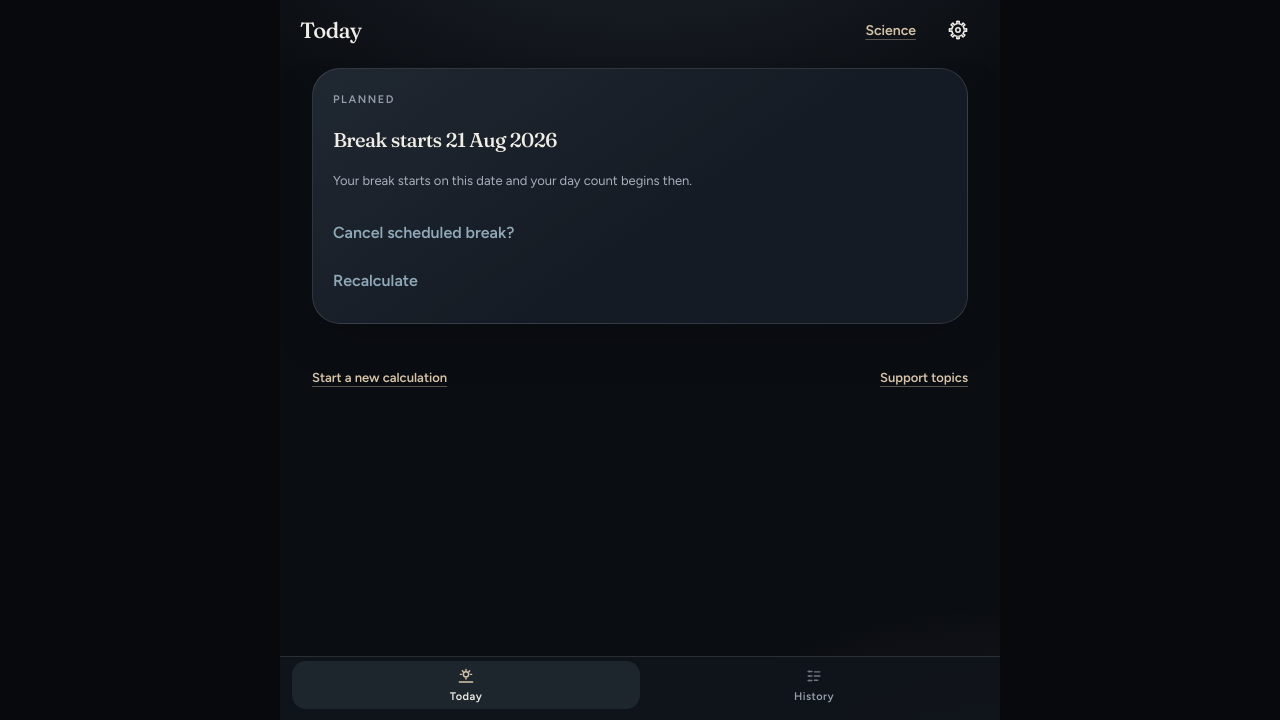
Scenario: chosen-duration scheduling edge cases › shows the running-plan notice instead of starting while a plan is scheduled
The image size is (1280, 720).
Click the button with test id "today-new-plan" showing "Start a new calculation": point(380, 378) x1=312 y1=356 x2=447 y2=400
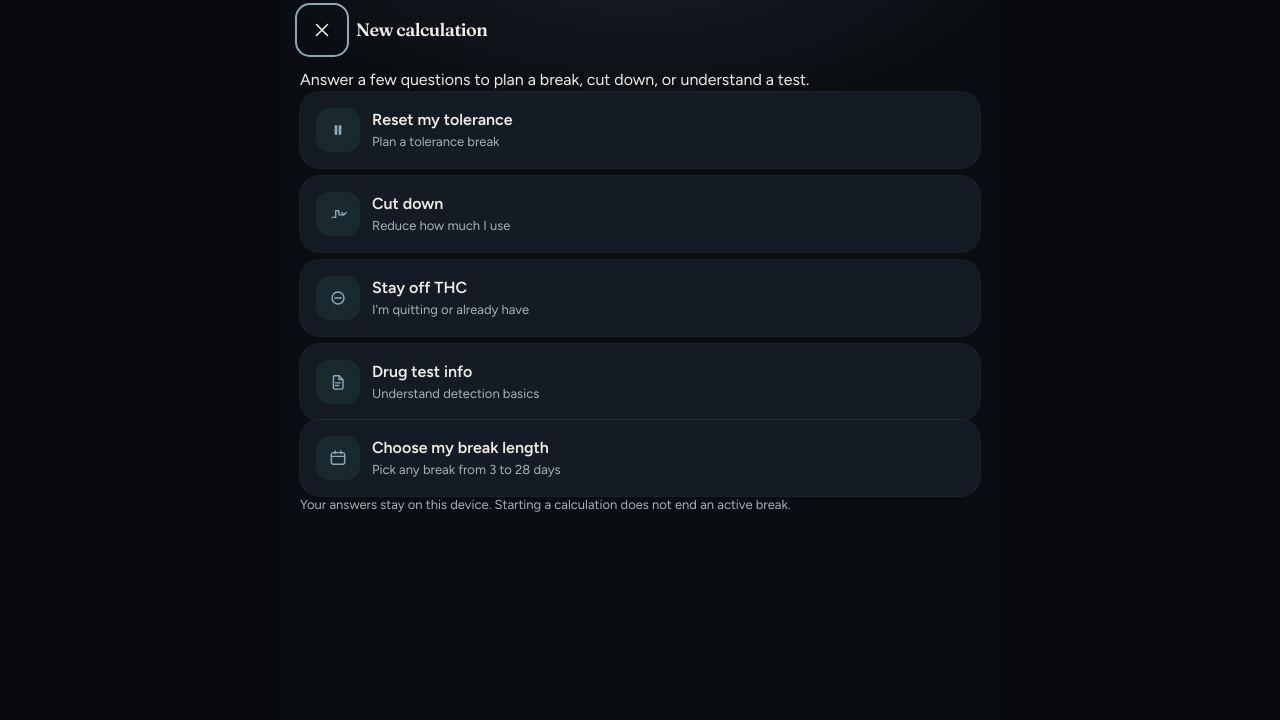
Click the button with test id "choose-break-length": point(338, 458) x1=300 y1=420 x2=980 y2=496
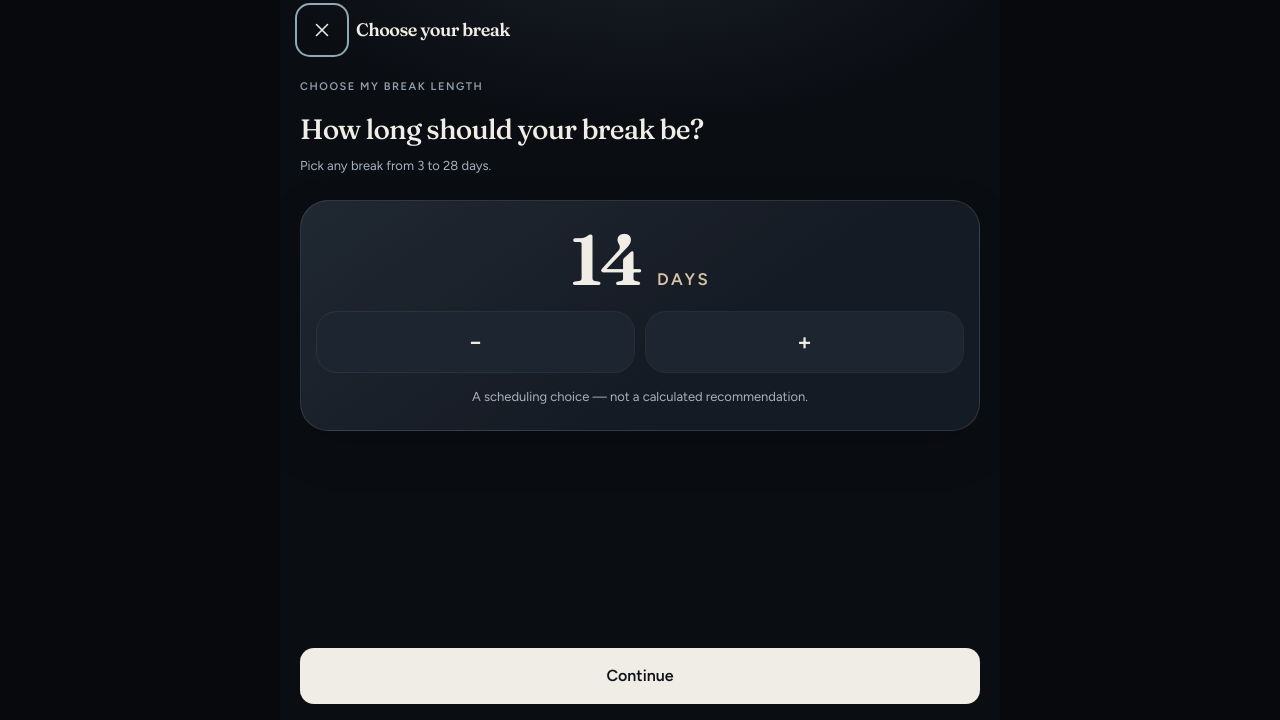
Click the button with test id "choose-days-continue": point(640, 676) x1=300 y1=648 x2=980 y2=704
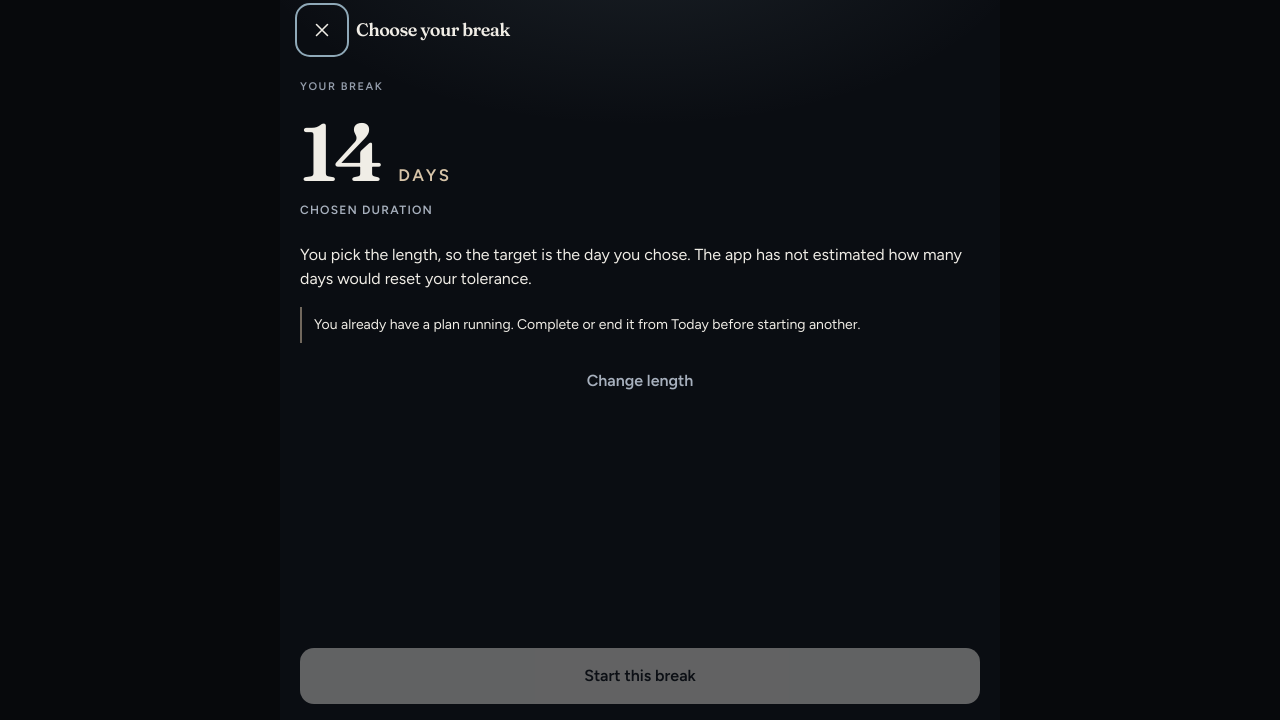
Expected: the text with test id "choose-running-notice" is shown, x1=300 y1=307 x2=980 y2=343
Expected: the button with test id "chosen-start-break" is disabled, x1=300 y1=648 x2=980 y2=704
